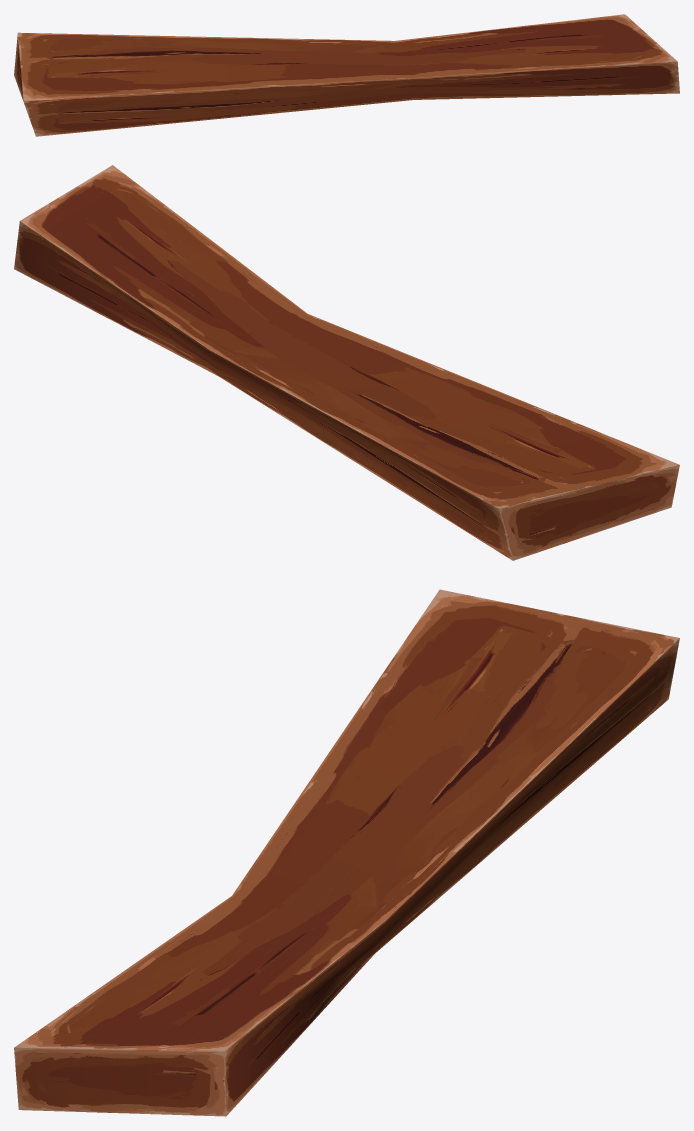
Rendered from SM_PROP_planks_03.fbx.
The picture shows the model from 3 angles, top to bottom: view 1: azimuth 30°, elevation 25°; view 2: azimuth 150°, elevation 25°; view 3: azimuth 270°, elevation 25°; orthographic projection. The views are drawn at different scales.
Visible parts, largest first — view 1: SM_PROP_planks_03; view 2: SM_PROP_planks_03; view 3: SM_PROP_planks_03.
Part boxes in pixels (<box>): SM_PROP_planks_03: <box>14,14,679,136</box>; SM_PROP_planks_03: <box>14,165,679,560</box>; SM_PROP_planks_03: <box>14,589,679,1116</box>.
Bounding box in the file's own units: 179 × 12.13 × 109.
